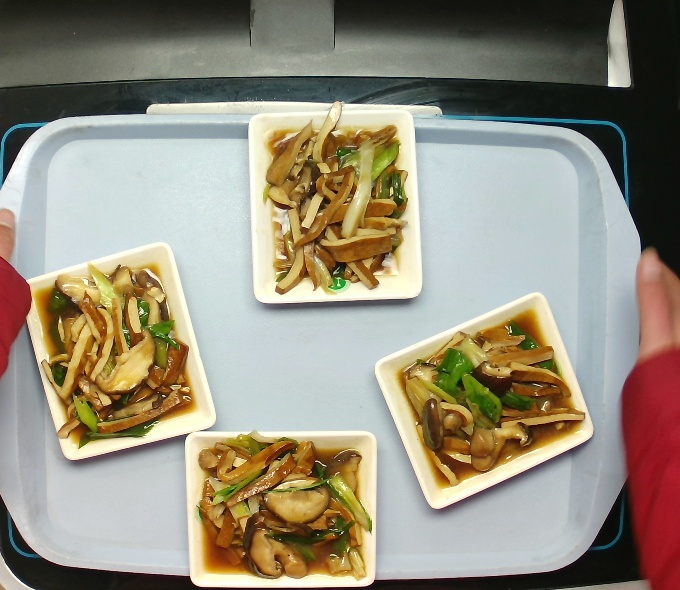wcq-XiangGuChaoXiangGan: (396, 296, 588, 488), (27, 259, 204, 451), (264, 109, 413, 295), (194, 432, 371, 579)
